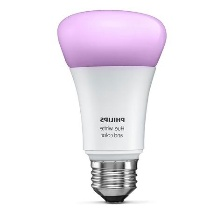light_bulb: (52, 6, 172, 207)
